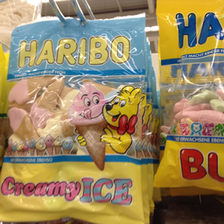candy: (1, 15, 148, 224)
